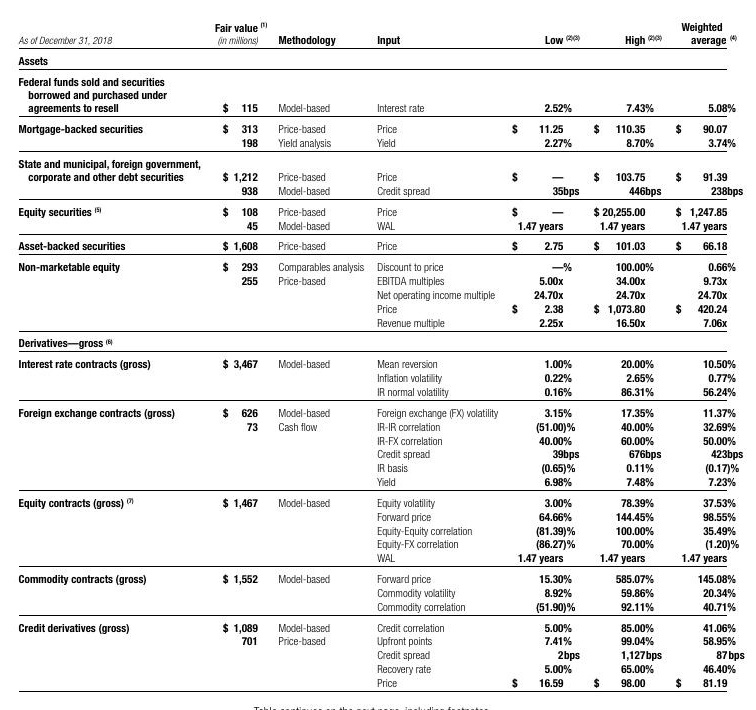table: (0, 0, 756, 710)
